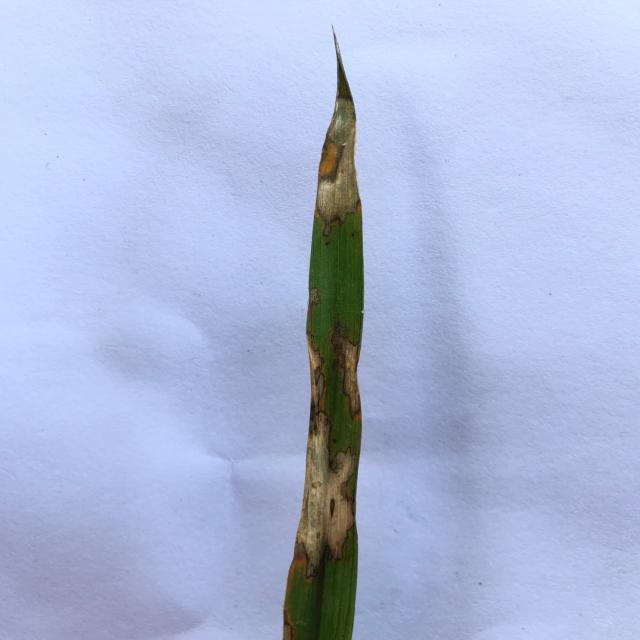Leaf Blight: (288, 334, 355, 580), (314, 30, 362, 237), (330, 323, 362, 424), (283, 610, 293, 640), (308, 288, 320, 313)
